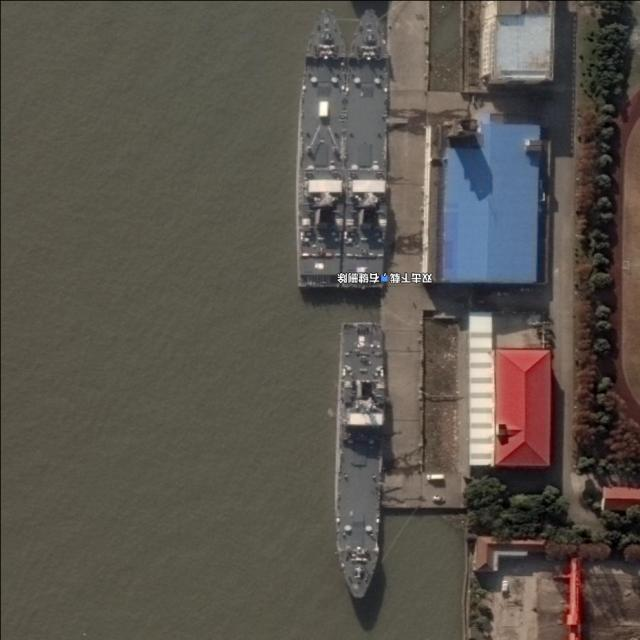Landing: (334, 323, 384, 599), (299, 5, 348, 284), (341, 9, 390, 284)
